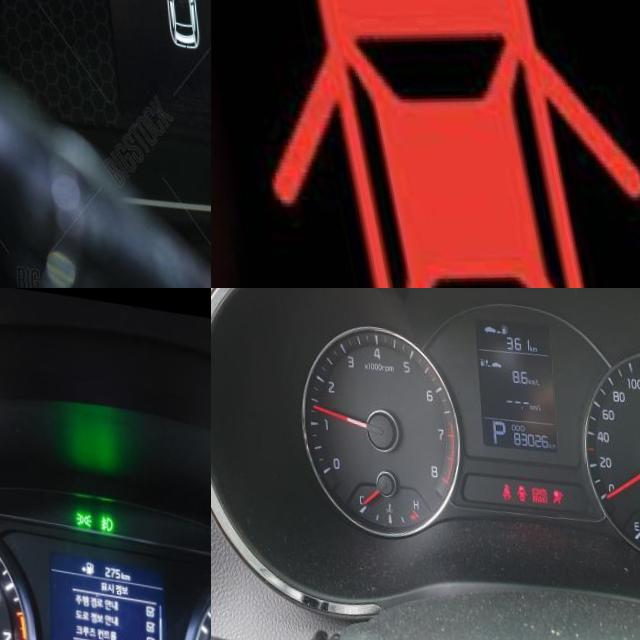FrontFogLight: (97, 505, 110, 521)
SideLamp: (72, 502, 89, 518)
